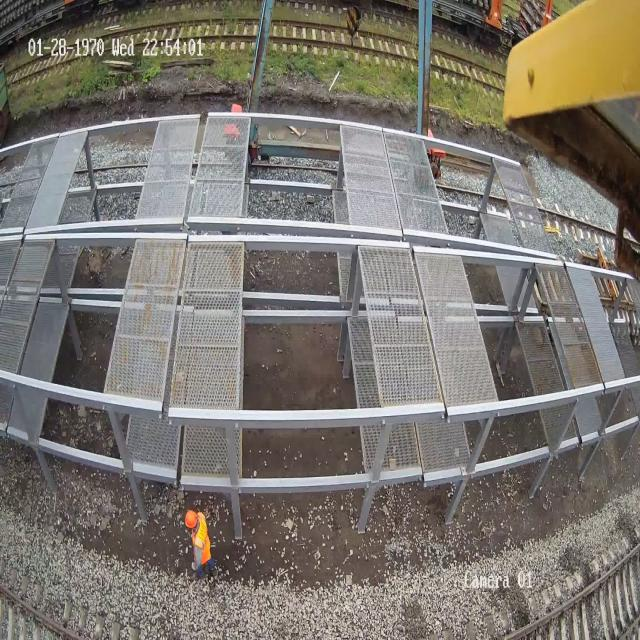Helmet: (185, 509, 197, 529)
Person: (185, 508, 215, 578)
